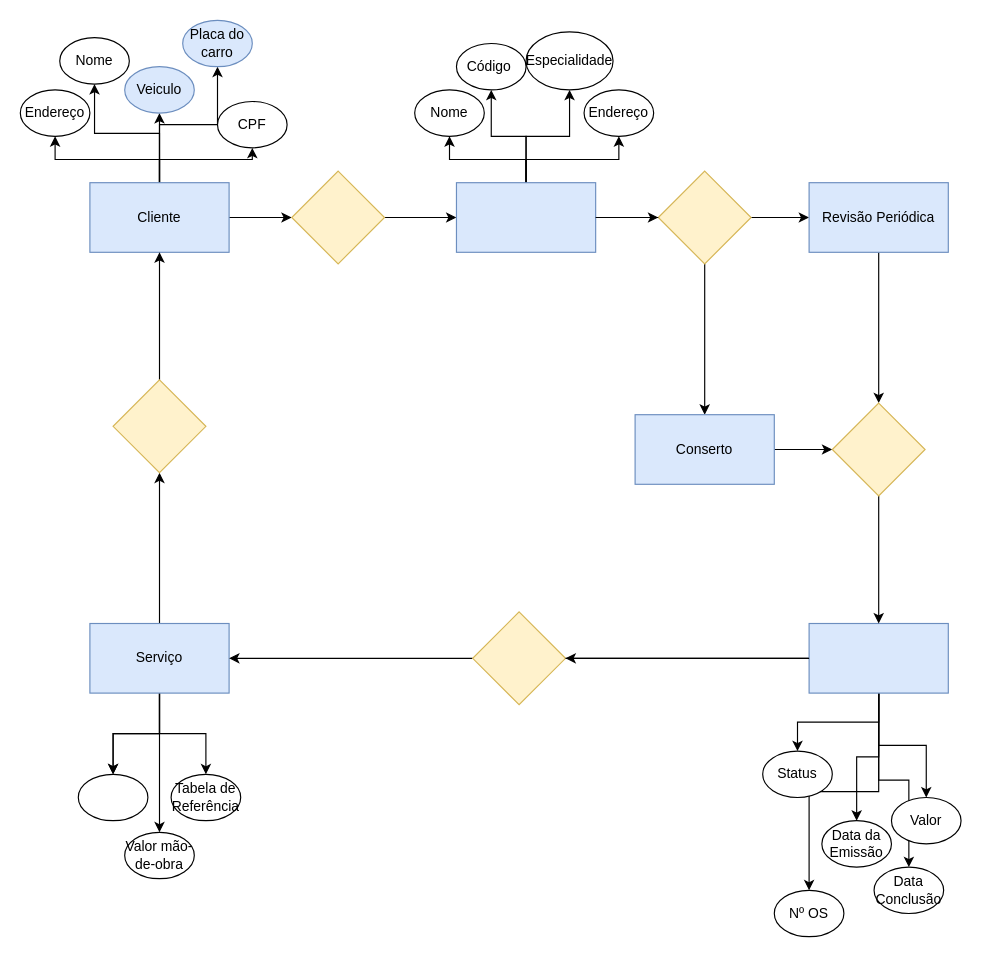
This 981x957 diagram has some shape labels left out. Each missing label, with the centre of its shape:
"Autoriza" goes at pixel 159 426.
"Avalia" goes at pixel 338 217.
"Consulta" goes at pixel 519 658.
"Executa" goes at pixel 704 217.
"Mecânico" goes at pixel 525 217.
"Ordem de serviço" goes at pixel 878 657.
"Preenche" goes at pixel 878 449.
"Valor peças" goes at pixel 112 797.
